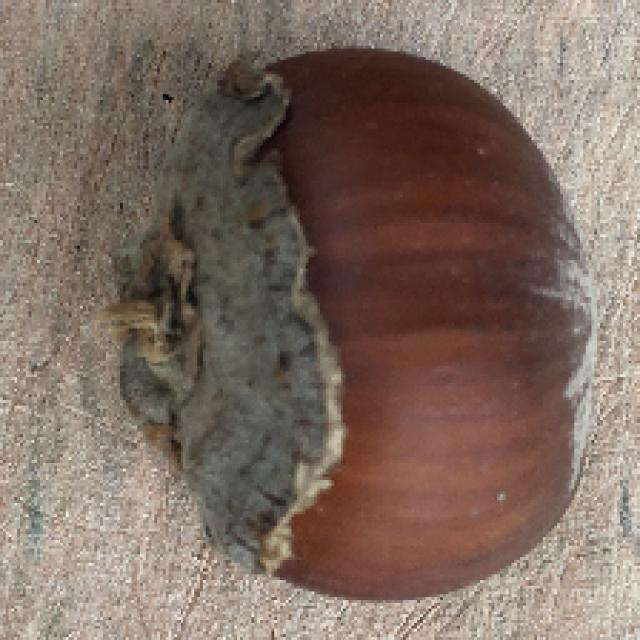damagedHazelnut: (112, 43, 602, 606)
